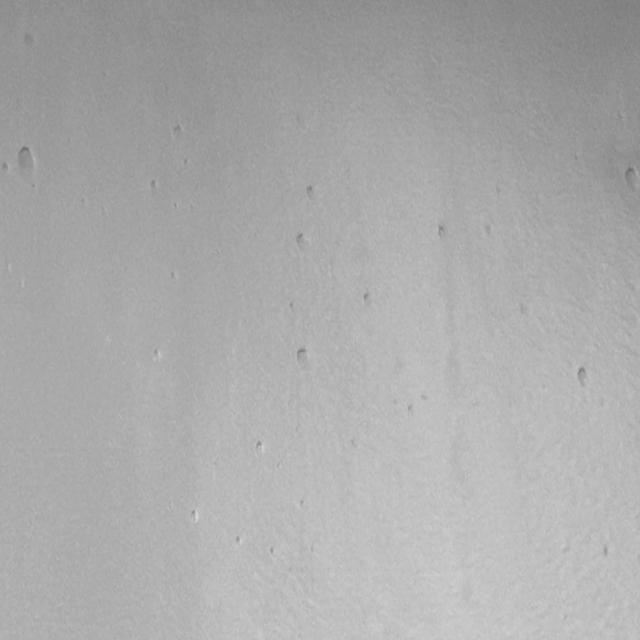pin holes: (16, 147, 38, 179), (572, 364, 594, 392), (293, 346, 313, 371), (622, 165, 640, 192), (302, 183, 322, 205), (434, 220, 453, 243), (22, 30, 40, 54), (294, 230, 312, 251), (169, 122, 185, 143), (254, 439, 270, 458), (361, 290, 377, 309), (188, 508, 201, 526), (152, 345, 165, 363), (233, 534, 246, 550), (148, 179, 160, 196), (405, 403, 417, 420), (170, 266, 179, 284), (520, 299, 528, 319), (602, 543, 610, 562), (0, 160, 10, 175), (289, 296, 297, 314), (269, 544, 275, 559)
